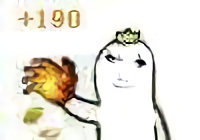dragon: (105, 53, 148, 90)
